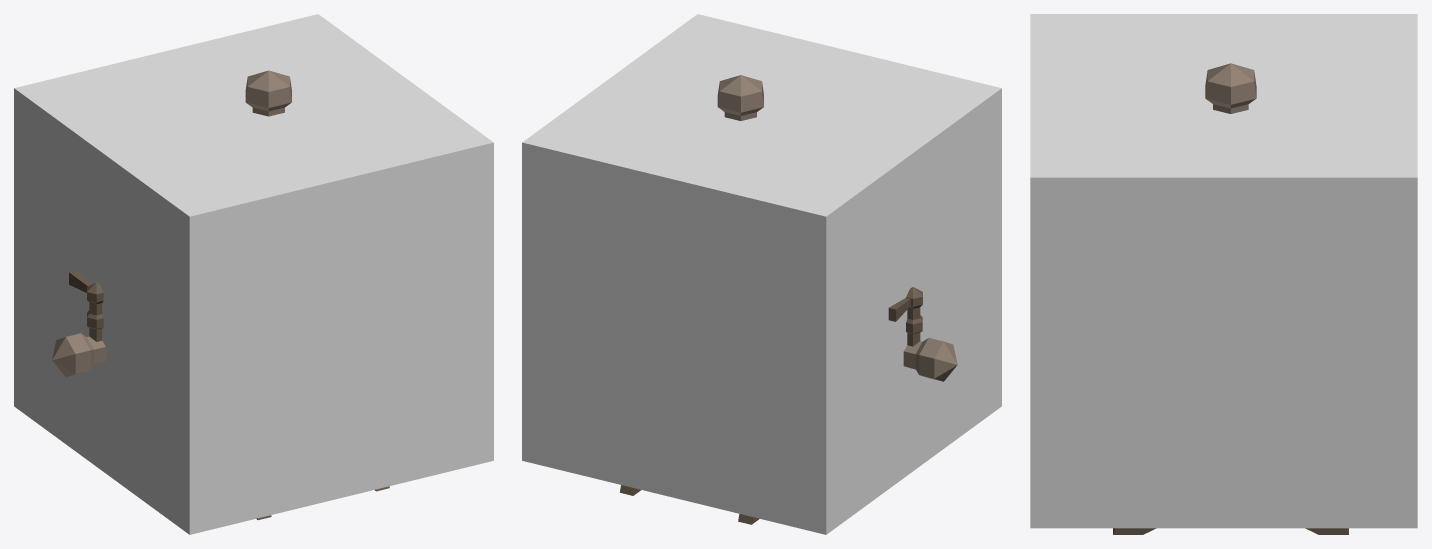
The model's file is barrel_water_1.glb.
3 views of the same model, side by side, from view 1: azimuth 30°, elevation 25°; view 2: azimuth 150°, elevation 25°; view 3: azimuth 270°, elevation 25° (orthographic). The views are drawn at different scales.
Visible parts, largest first — view 1: Cube, barrel; view 2: Cube, barrel; view 3: Cube, barrel.
Boxes of the visible parts, x1,y1,x2,y2 form: Cube: [14, 14, 493, 534]; barrel: [52, 70, 389, 520]; Cube: [522, 14, 1001, 534]; barrel: [620, 75, 957, 524]; Cube: [1030, 14, 1417, 528]; barrel: [1113, 63, 1348, 534].
Bounding box in the file's own units: 2.31 × 2.48 × 2.
Materials: 1 (1 with a texture image).
